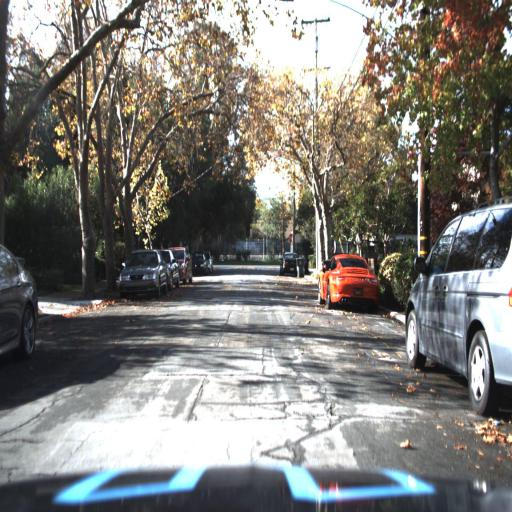car: (382, 195, 511, 416), (0, 239, 38, 376), (316, 246, 381, 318), (117, 253, 166, 294), (171, 238, 195, 286), (278, 247, 303, 276), (166, 249, 177, 291), (178, 247, 190, 282)
